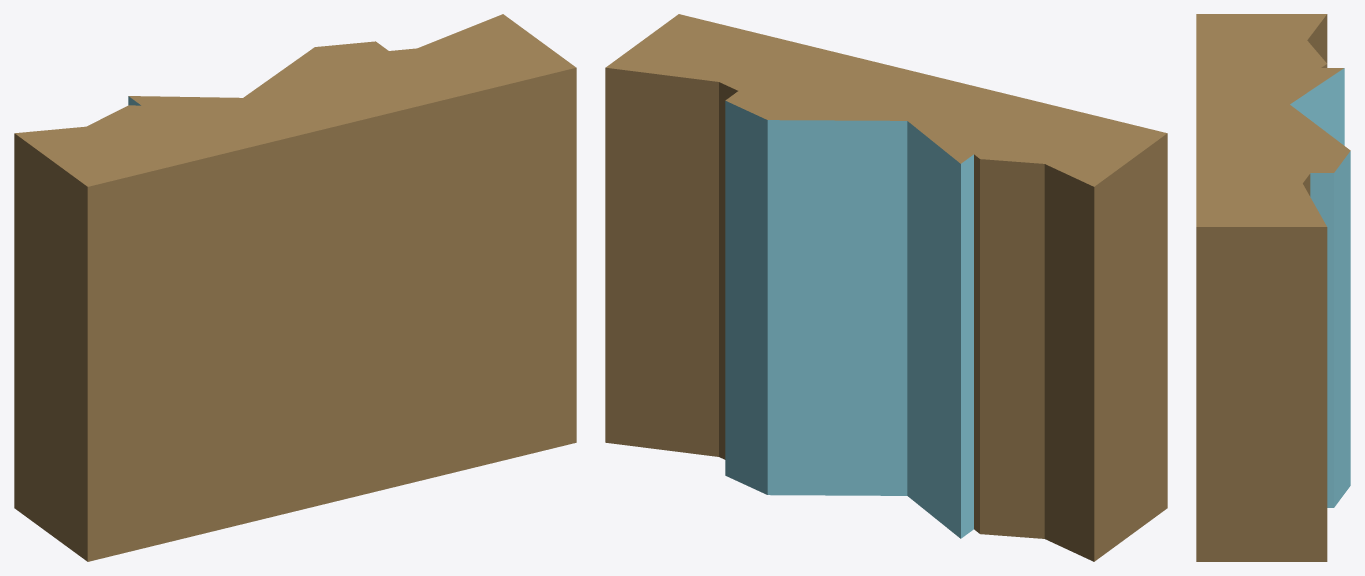
The model's file is Brown_Waterfall_01.fbx.
3 renders of one model, left to right at view 1: azimuth 30°, elevation 25°; view 2: azimuth 150°, elevation 25°; view 3: azimuth 270°, elevation 25°, orthographic. The views are drawn at different scales.
Parts seen in each view (by area): view 1: Mesh1_Brown_Waterfall Model; view 2: Mesh1_Brown_Waterfall Model; view 3: Mesh1_Brown_Waterfall Model.
Part boxes in pixels (<box>): Mesh1_Brown_Waterfall Model: <box>14,14,576,561</box>; Mesh1_Brown_Waterfall Model: <box>605,14,1167,561</box>; Mesh1_Brown_Waterfall Model: <box>1196,14,1350,561</box>.
Size of the model in its own units: 3 by 2.2 by 0.92.
